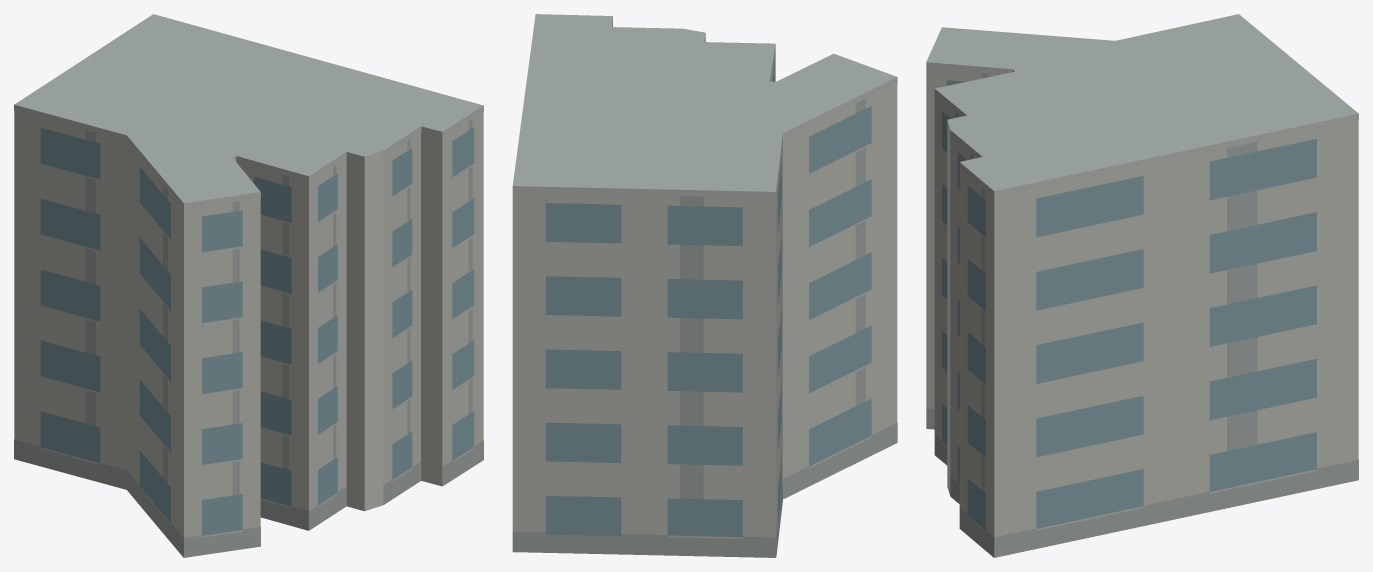
File: survey-upis-32707086.glb
The picture shows the model from 3 angles, left to right: view 1: azimuth 30°, elevation 25°; view 2: azimuth 150°, elevation 25°; view 3: azimuth 270°, elevation 25°; orthographic projection. The views are drawn at different scales.
Visible parts, largest first — view 1: survey-upis-32707086.tmp; view 2: survey-upis-32707086.tmp; view 3: survey-upis-32707086.tmp.
Boxes of the visible parts, x1,y1,x2,y2 form: survey-upis-32707086.tmp: (14, 14, 483, 557); survey-upis-32707086.tmp: (512, 14, 897, 557); survey-upis-32707086.tmp: (926, 14, 1358, 557).
Bounding box in the file's own units: 14.63 × 14.1 × 15.09.
